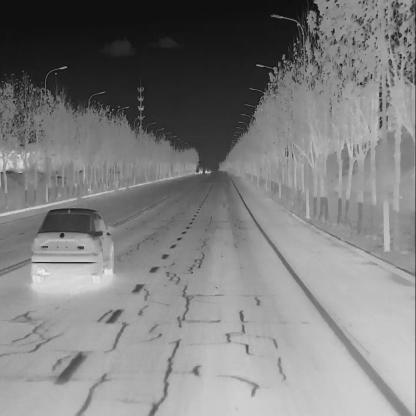car: (30, 204, 116, 284), (198, 166, 203, 174), (194, 168, 200, 174), (204, 168, 210, 174)
